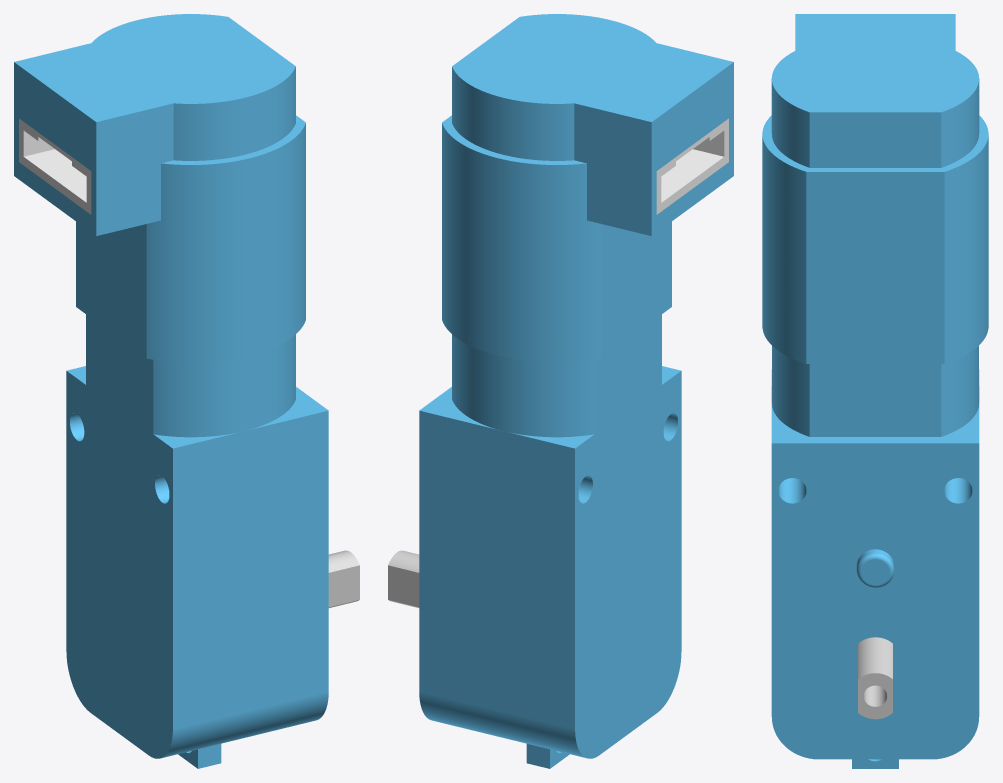
The model's file is Motor.obj.
3 views of the same model, side by side, from view 1: azimuth 30°, elevation 25°; view 2: azimuth 150°, elevation 25°; view 3: azimuth 270°, elevation 25° (orthographic). The views are drawn at different scales.
Visible parts, largest first — view 1: Body3, Body5, Body2, Body1; view 2: Body3, Body5, Body2, Body1; view 3: Body3, Body2, Body4, Body1.
Part boxes in pixels (box(x1,y1,x2,y2)): Body3: box(14, 14, 328, 758); Body5: box(19, 118, 91, 214); Body2: box(328, 550, 359, 607); Body1: box(178, 744, 221, 768); Body3: box(419, 14, 733, 758); Body5: box(656, 118, 728, 214); Body2: box(388, 550, 419, 607); Body1: box(526, 744, 569, 768); Body3: box(762, 14, 988, 759); Body2: box(858, 637, 892, 719); Body4: box(856, 549, 894, 587); Body1: box(852, 759, 898, 768).
Bounding box in the file's own units: 35.3 × 79.8 × 23.99.
